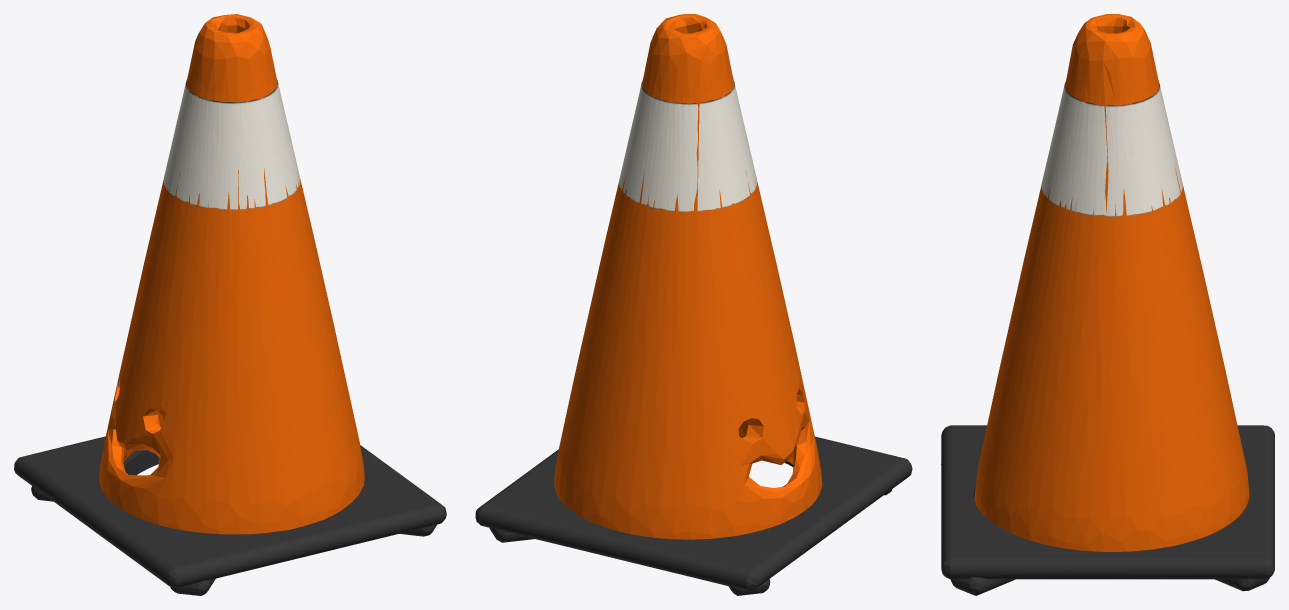
File: TrafficCone.obj
3 views of the same model, side by side, from view 1: azimuth 30°, elevation 25°; view 2: azimuth 150°, elevation 25°; view 3: azimuth 270°, elevation 25° (orthographic). The views are drawn at different scales.
Parts seen in each view (by area): view 1: model_2, model_0, model_1; view 2: model_2, model_0, model_1; view 3: model_2, model_0, model_1.
Part boxes in pixels (x1=…): model_2: x1=99, y1=14, x2=364, y2=534; model_0: x1=14, y1=436, x2=446, y2=595; model_1: x1=163, y1=80, x2=300, y2=210; model_2: x1=554, y1=14, x2=822, y2=539; model_0: x1=475, y1=436, x2=912, y2=595; model_1: x1=619, y1=81, x2=757, y2=212; model_2: x1=974, y1=14, x2=1249, y2=551; model_0: x1=941, y1=425, x2=1274, y2=595; model_1: x1=1041, y1=82, x2=1183, y2=217.
Size of the model in its own units: 102 by 167 by 100.
Materials: 3 (3 with a texture image).
